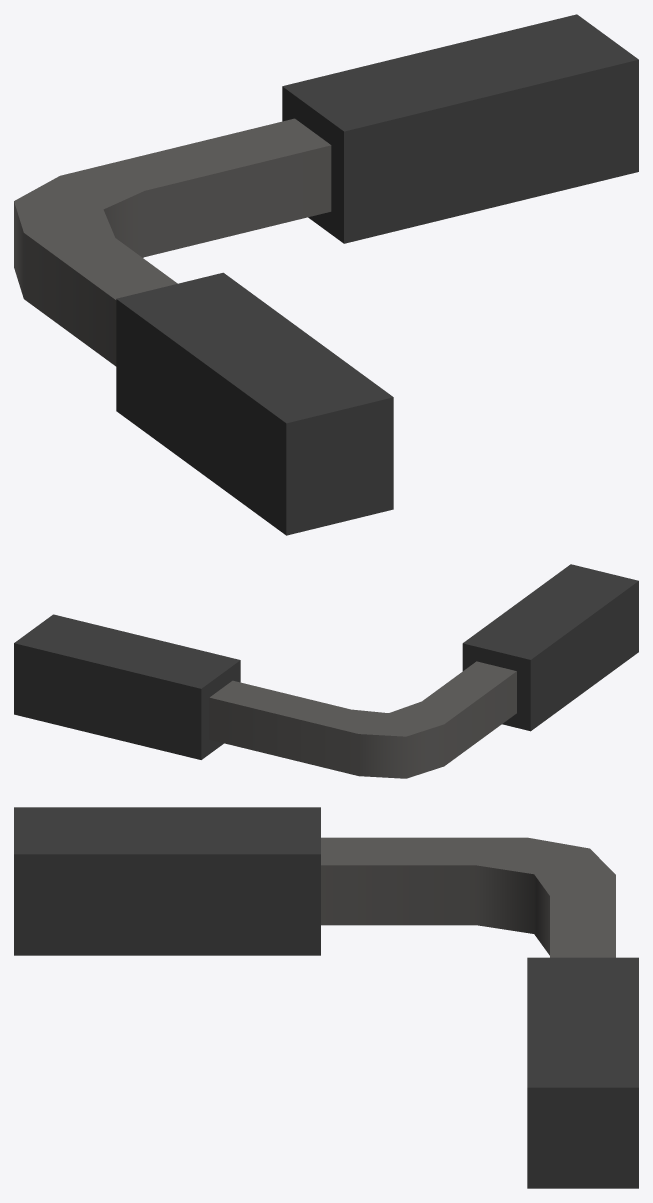
The model's file is Cable_A_2_1.fbx.
3 views of the same model, one above another, from view 1: azimuth 30°, elevation 25°; view 2: azimuth 150°, elevation 25°; view 3: azimuth 270°, elevation 25° (orthographic). The views are drawn at different scales.
Parts seen in each view (by area): view 1: Cable_A_2_1; view 2: Cable_A_2_1; view 3: Cable_A_2_1.
Part boxes in pixels (<box>): Cable_A_2_1: <box>14,14,638,535</box>; Cable_A_2_1: <box>14,564,638,778</box>; Cable_A_2_1: <box>14,807,638,1188</box>.
Size of the model in its own units: 58.35 by 9.83 by 54.97.
